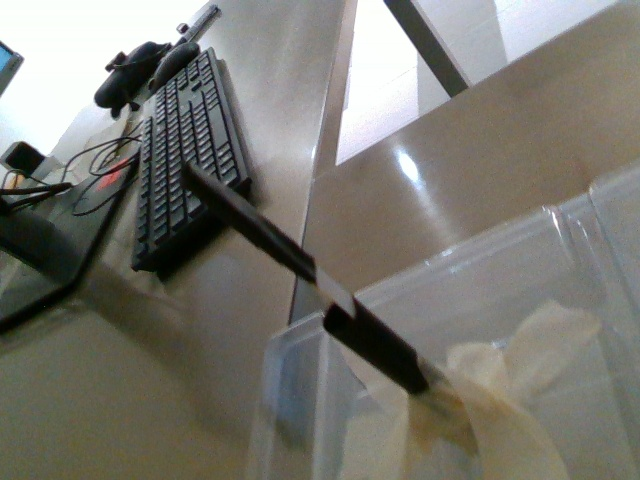test_strip: (178, 155, 356, 317)
